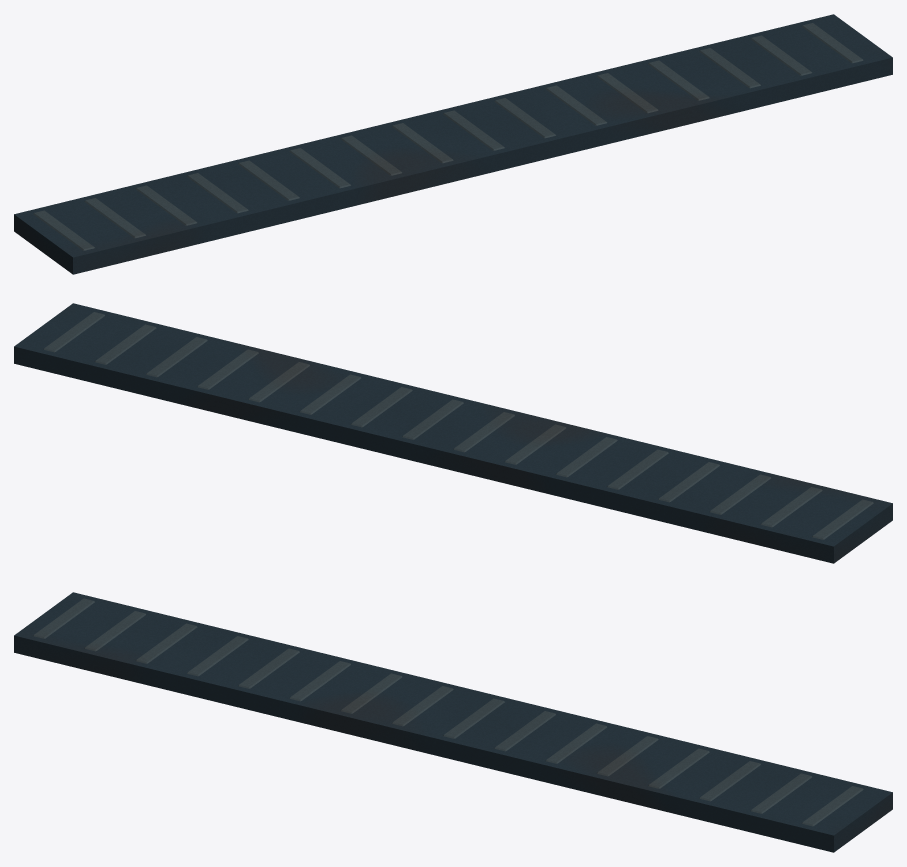
Rendered from Floor_Drain.fbx.
3 views of the same model, one above another, from view 1: azimuth 30°, elevation 25°; view 2: azimuth 150°, elevation 25°; view 3: azimuth 330°, elevation 25° (orthographic).
Parts seen in each view (by area): view 1: ENV_Foundry_Floor_Drain_LOD0; view 2: ENV_Foundry_Floor_Drain_LOD0; view 3: ENV_Foundry_Floor_Drain_LOD0.
Part boxes in pixels (<box>): ENV_Foundry_Floor_Drain_LOD0: <box>14,14,892,274</box>; ENV_Foundry_Floor_Drain_LOD0: <box>14,303,892,563</box>; ENV_Foundry_Floor_Drain_LOD0: <box>14,592,892,852</box>.
Size of what is drawn, in the model's own units: 4 by 0.085 by 0.5.
